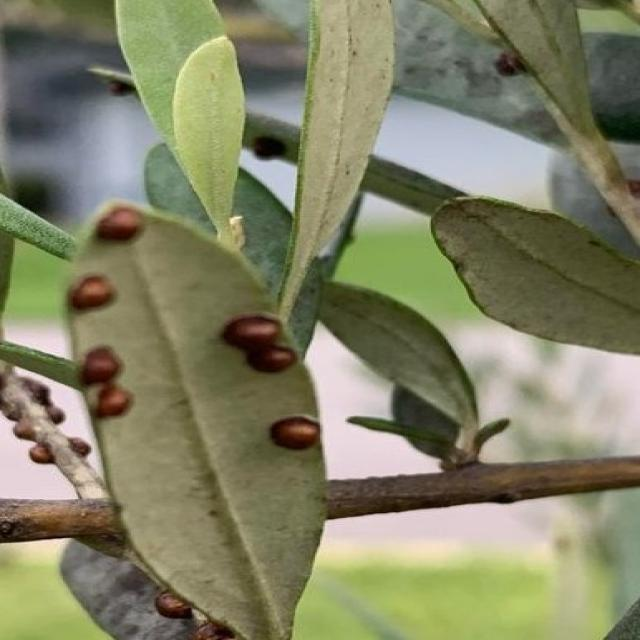Olive Fruit Fly: (0, 365, 90, 486), (73, 201, 172, 260), (219, 314, 300, 373), (154, 589, 239, 639), (76, 345, 133, 417), (272, 416, 323, 461), (66, 274, 114, 313)
